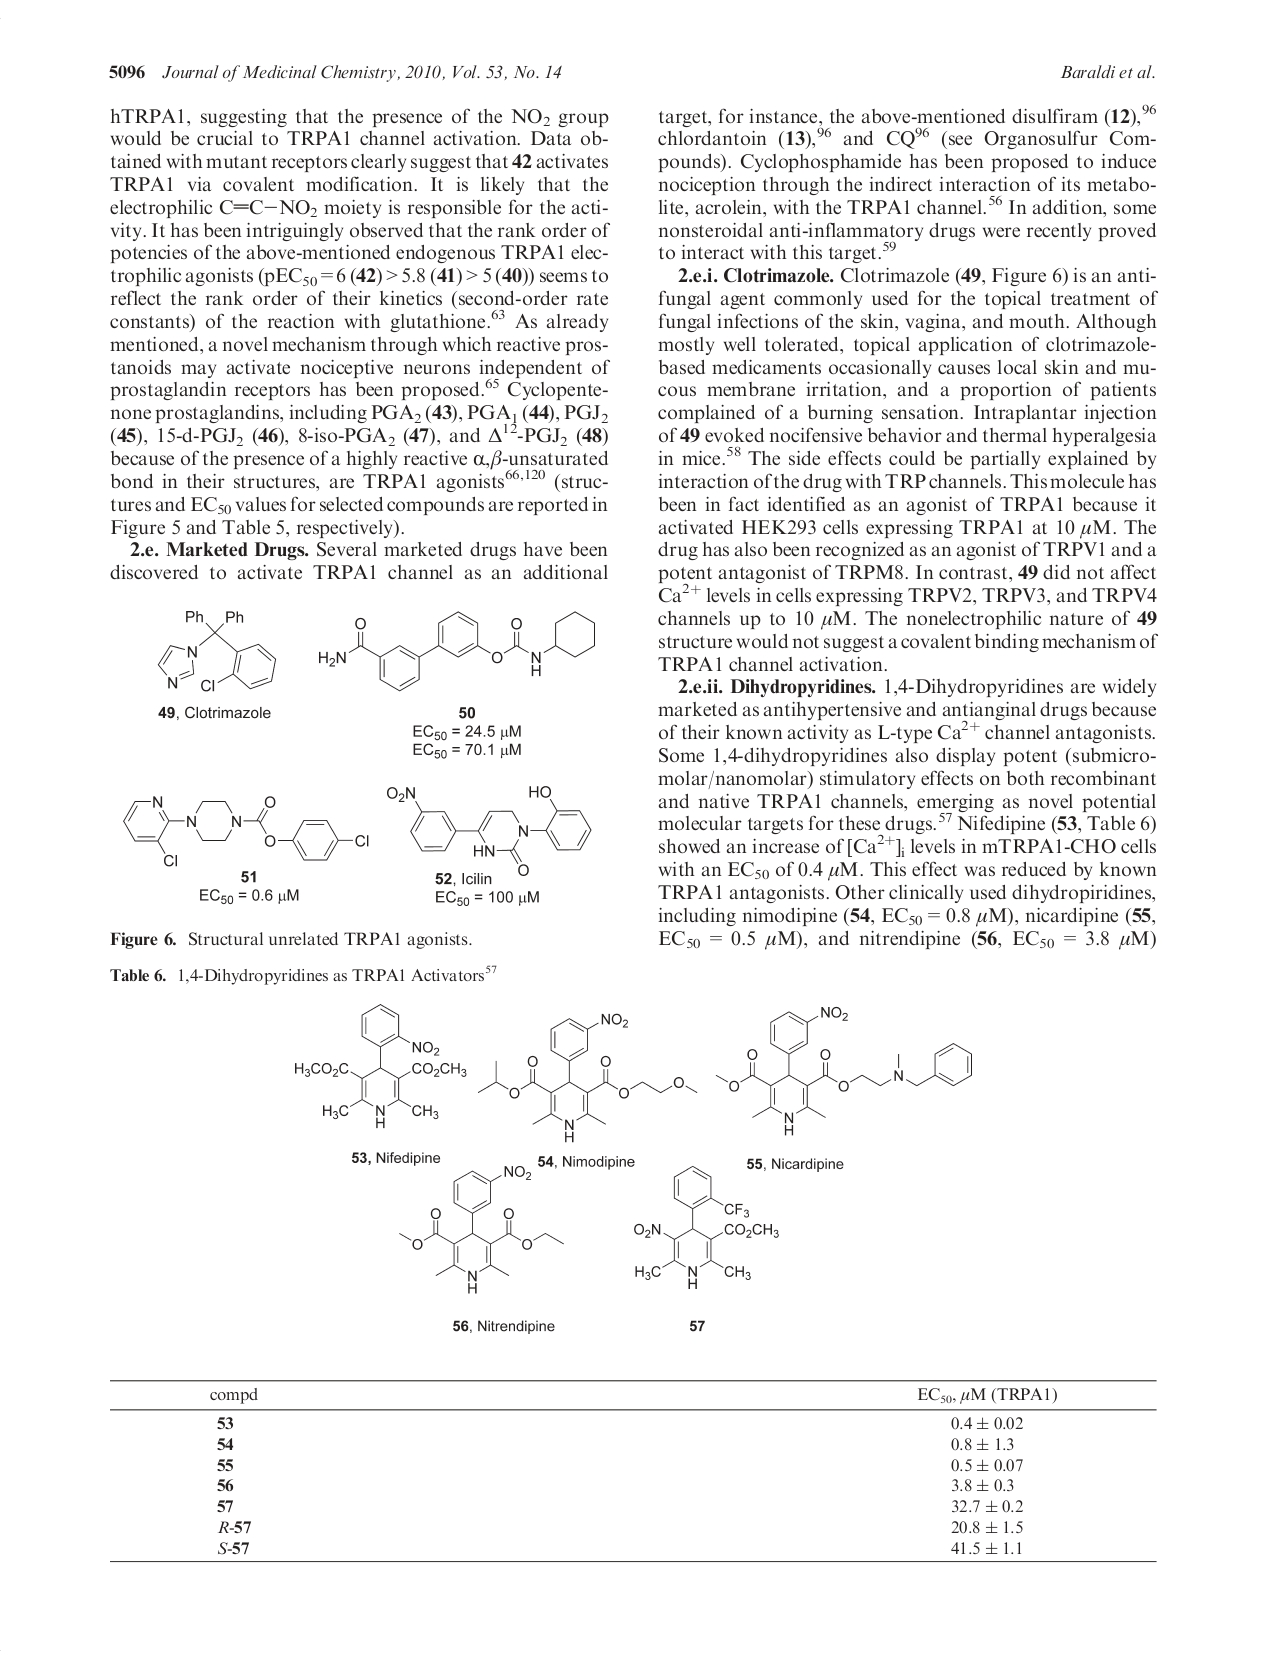exist_molecular: (702, 1005, 981, 1134), (473, 1004, 699, 1150), (315, 604, 614, 698), (395, 1162, 576, 1305), (289, 1000, 469, 1133), (620, 1158, 785, 1302), (120, 789, 371, 870), (386, 779, 593, 876), (160, 609, 271, 696)
